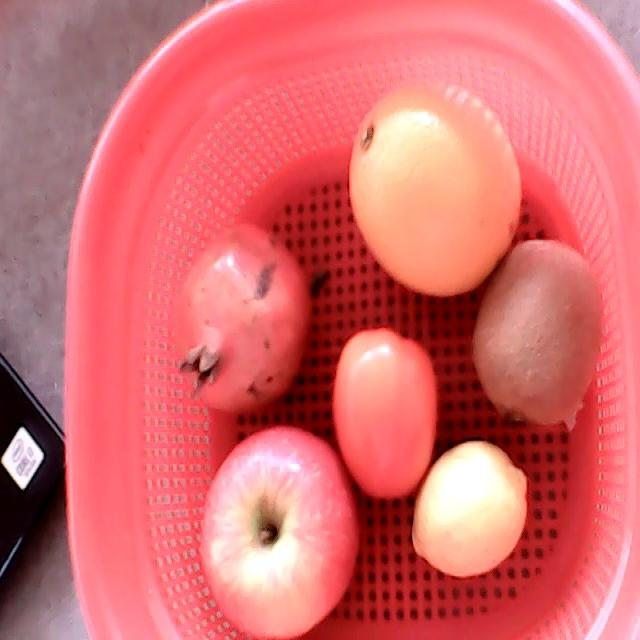apple: (199, 426, 359, 637)
kiwi: (473, 241, 602, 427)
lemon: (414, 440, 528, 577)
orange: (349, 80, 522, 296)
pomegranate: (176, 223, 309, 414)
tomato: (333, 330, 438, 497)
